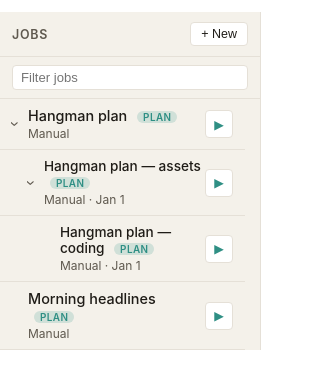
it: JobList › jobs a run started › says so when nothing matches
Type "zzz" into the search field labelled "Filter jobs". click: (130, 78)
box: [12, 65, 248, 90]
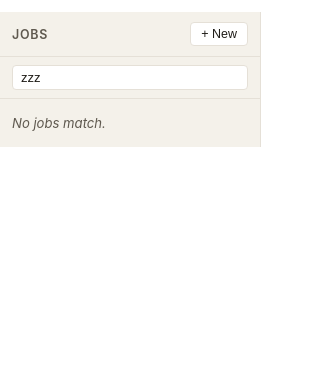
Result: the text "No jobs match." is shown at [12, 115, 106, 131]
